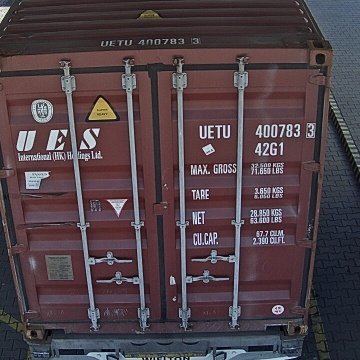serial_id: (199, 123, 315, 138)
